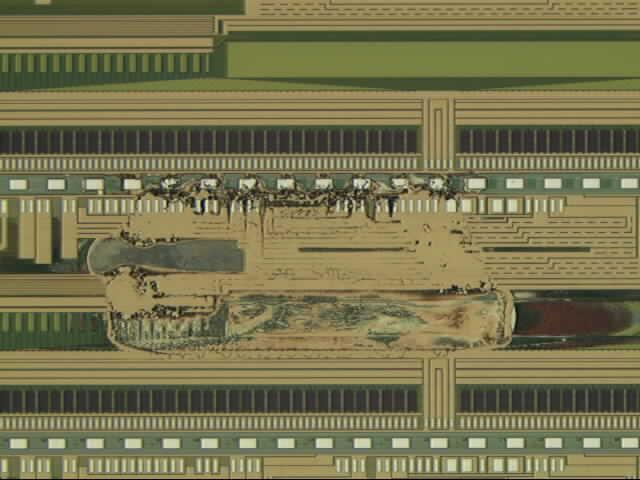COATING BAD: (78, 174, 526, 370)
